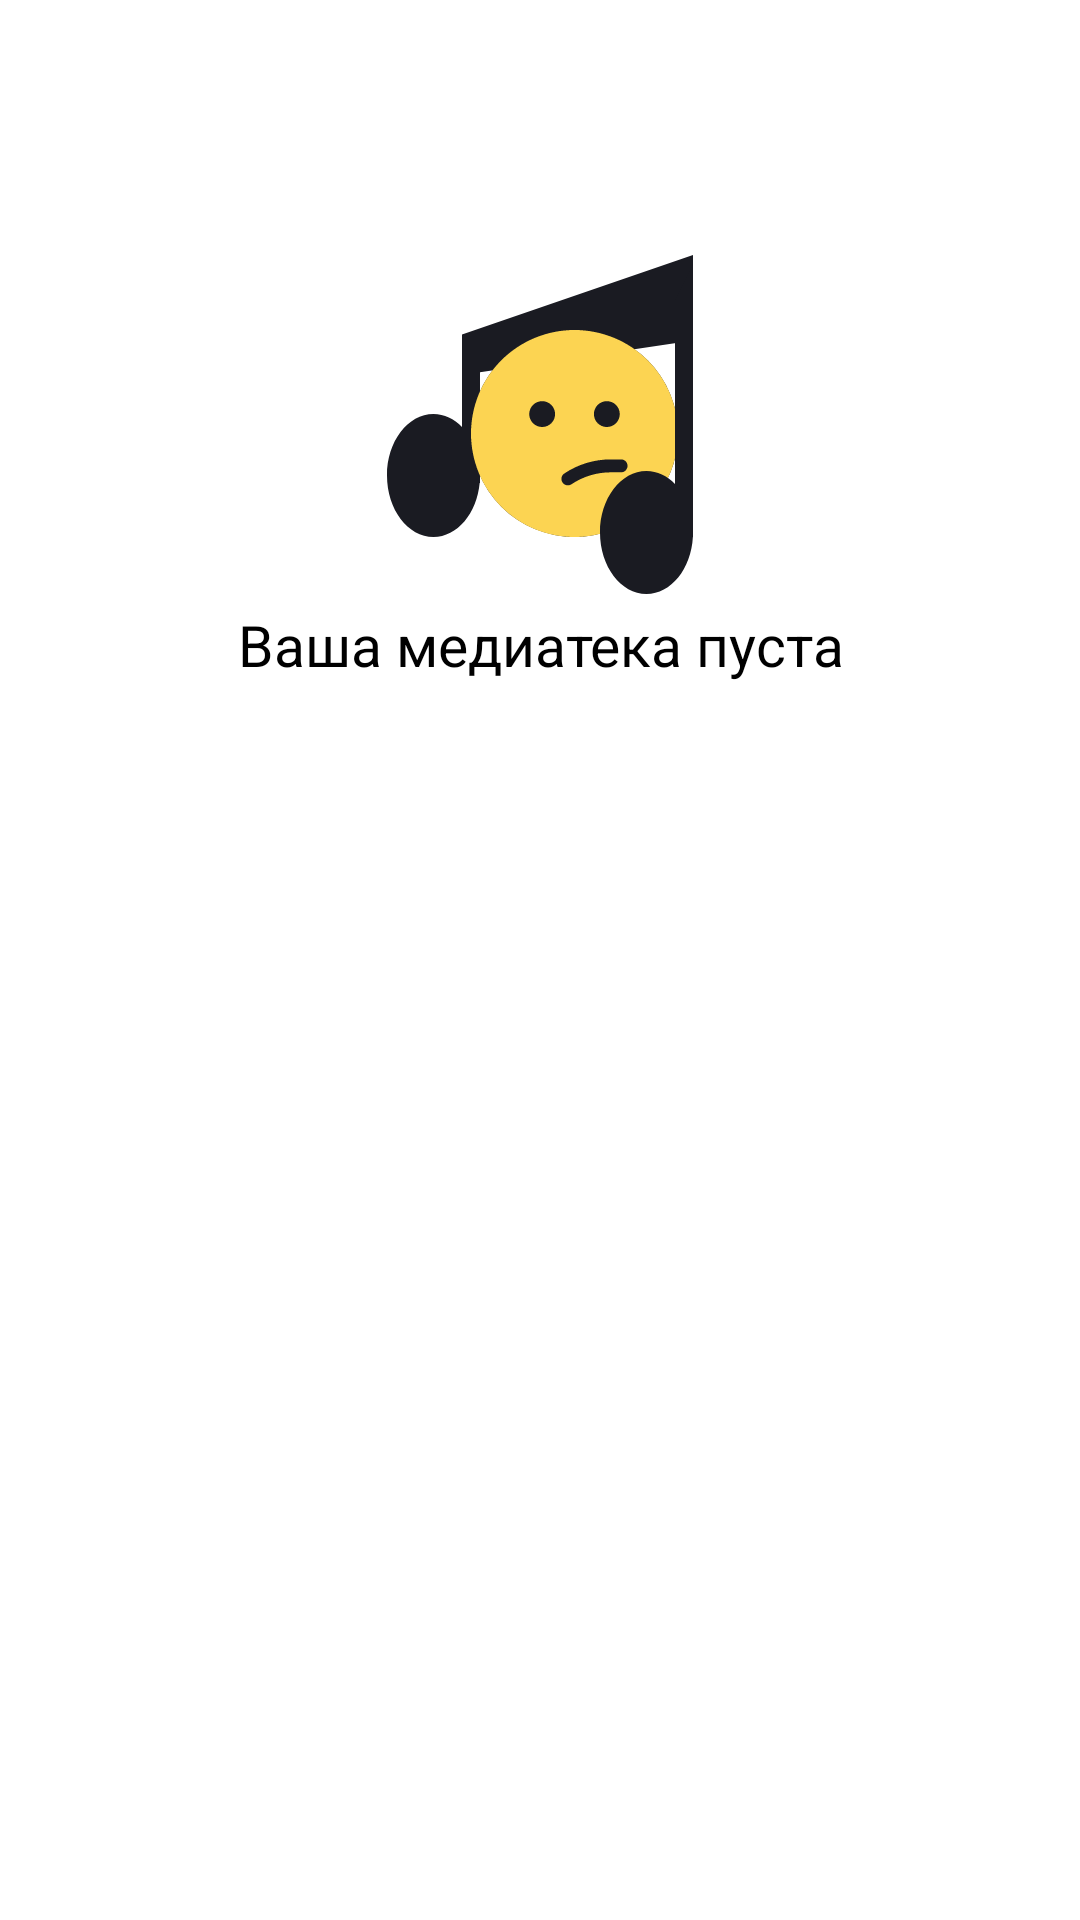

Icons on this 1080 × 1920 Android screen, each with the point to tap as point (x, y):
not found: point (540, 424)
